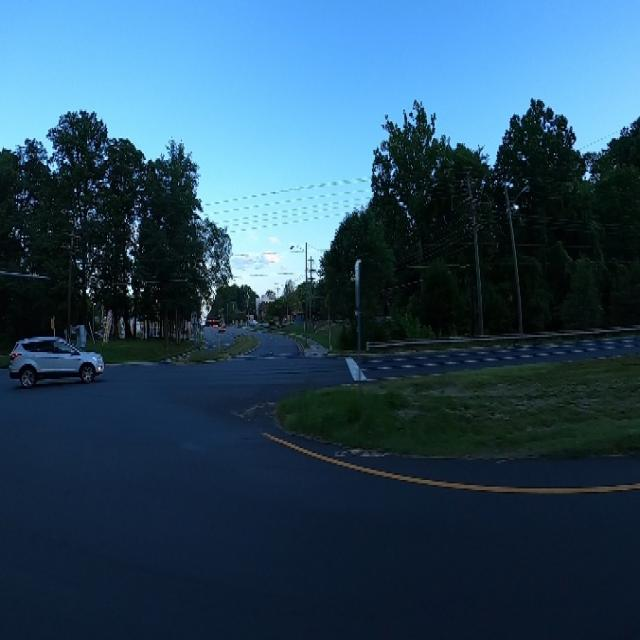car: (8, 319, 106, 393)
